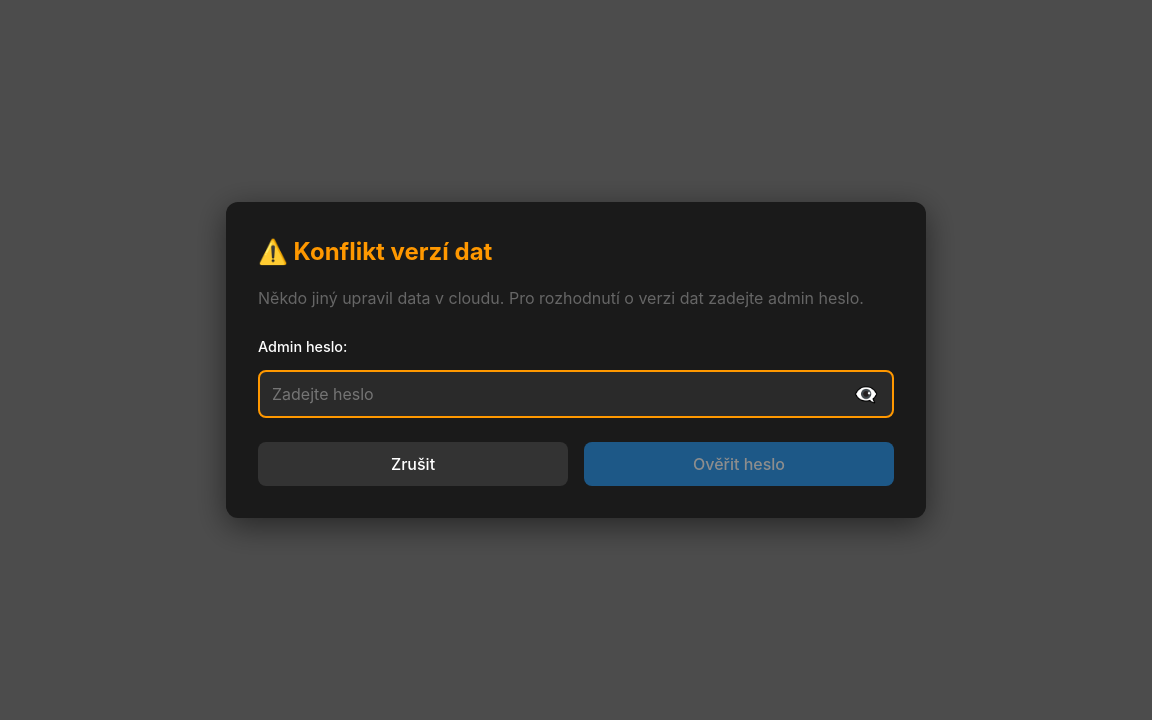
Test: ConflictResolutionModal › should show error on incorrect password
Type "wrongpass" into the password field with placeholder "Zadejte heslo" at x=576, y=394, box [258,370,894,418]
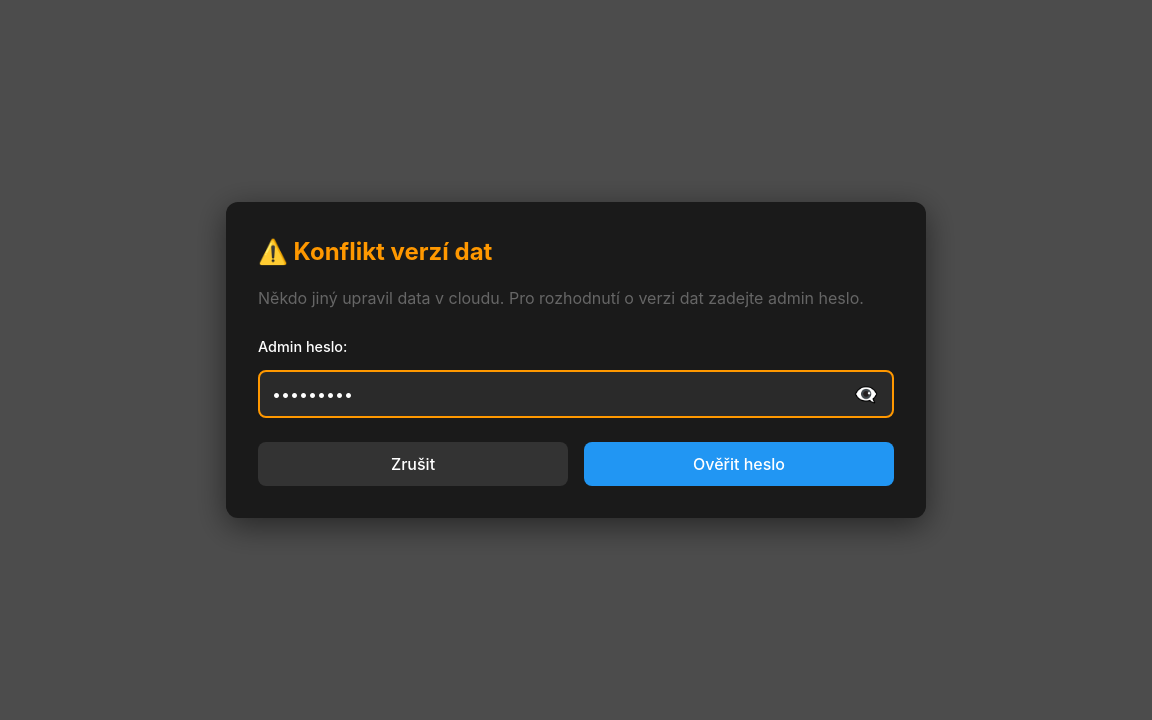
Click the button "Ověřit heslo" at x=739, y=464, box [584,442,894,486]
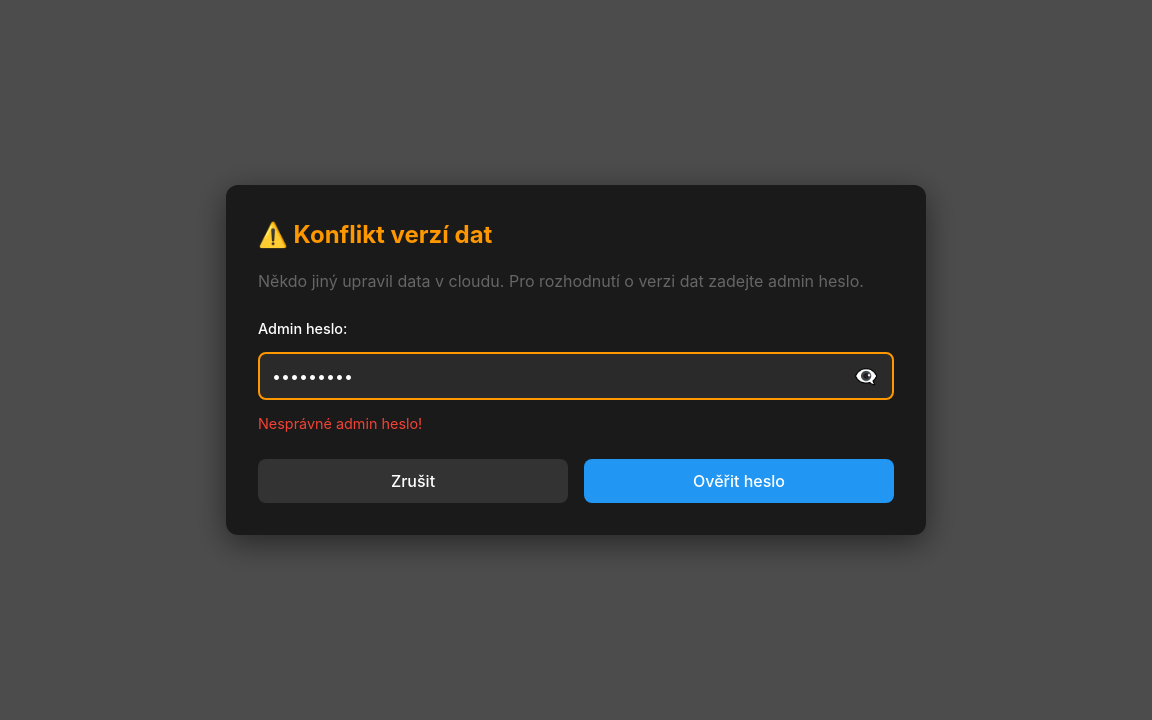
Expected: the text "Nesprávné admin heslo!" is shown, [258,415,422,432]
